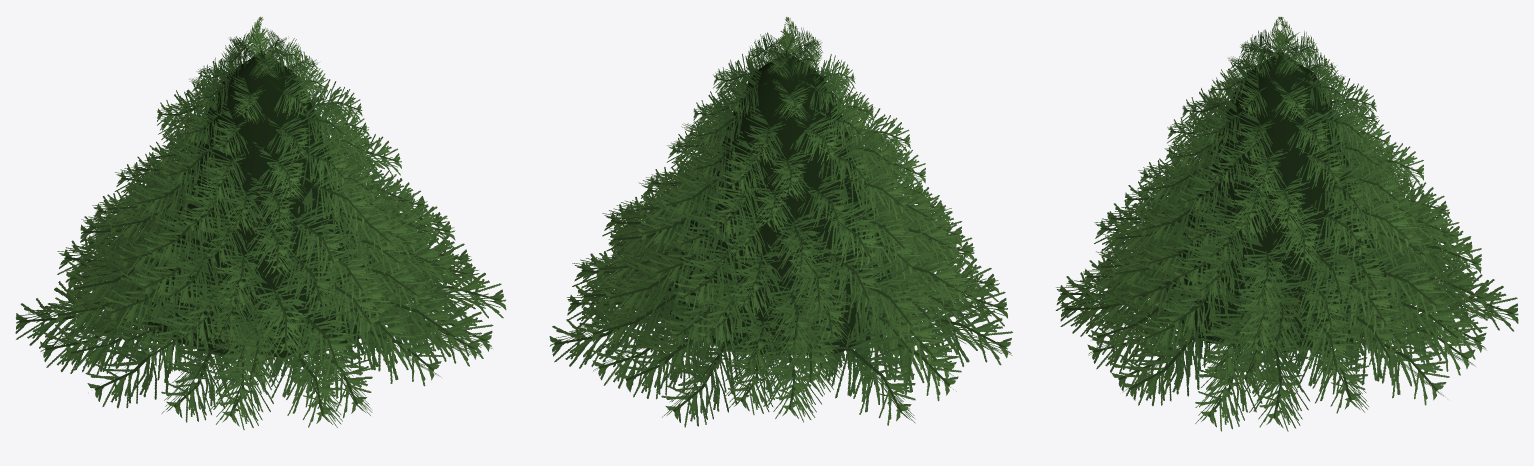
File: AraTree07.glb
3 renders of one model, left to right at view 1: azimuth 30°, elevation 25°; view 2: azimuth 150°, elevation 25°; view 3: azimuth 270°, elevation 25°, orthographic.
Parts seen in each view (by area): view 1: AraTree07_needles; view 2: AraTree07_needles; view 3: AraTree07_needles.
Part boxes in pixels (x1,y1,x2,y2): AraTree07_needles: [15, 16, 506, 429]; AraTree07_needles: [549, 17, 1012, 427]; AraTree07_needles: [1055, 17, 1518, 431].
Size of the model in its own units: 4.54 by 3.48 by 4.48.
Materials: 3 (2 with a texture image).
